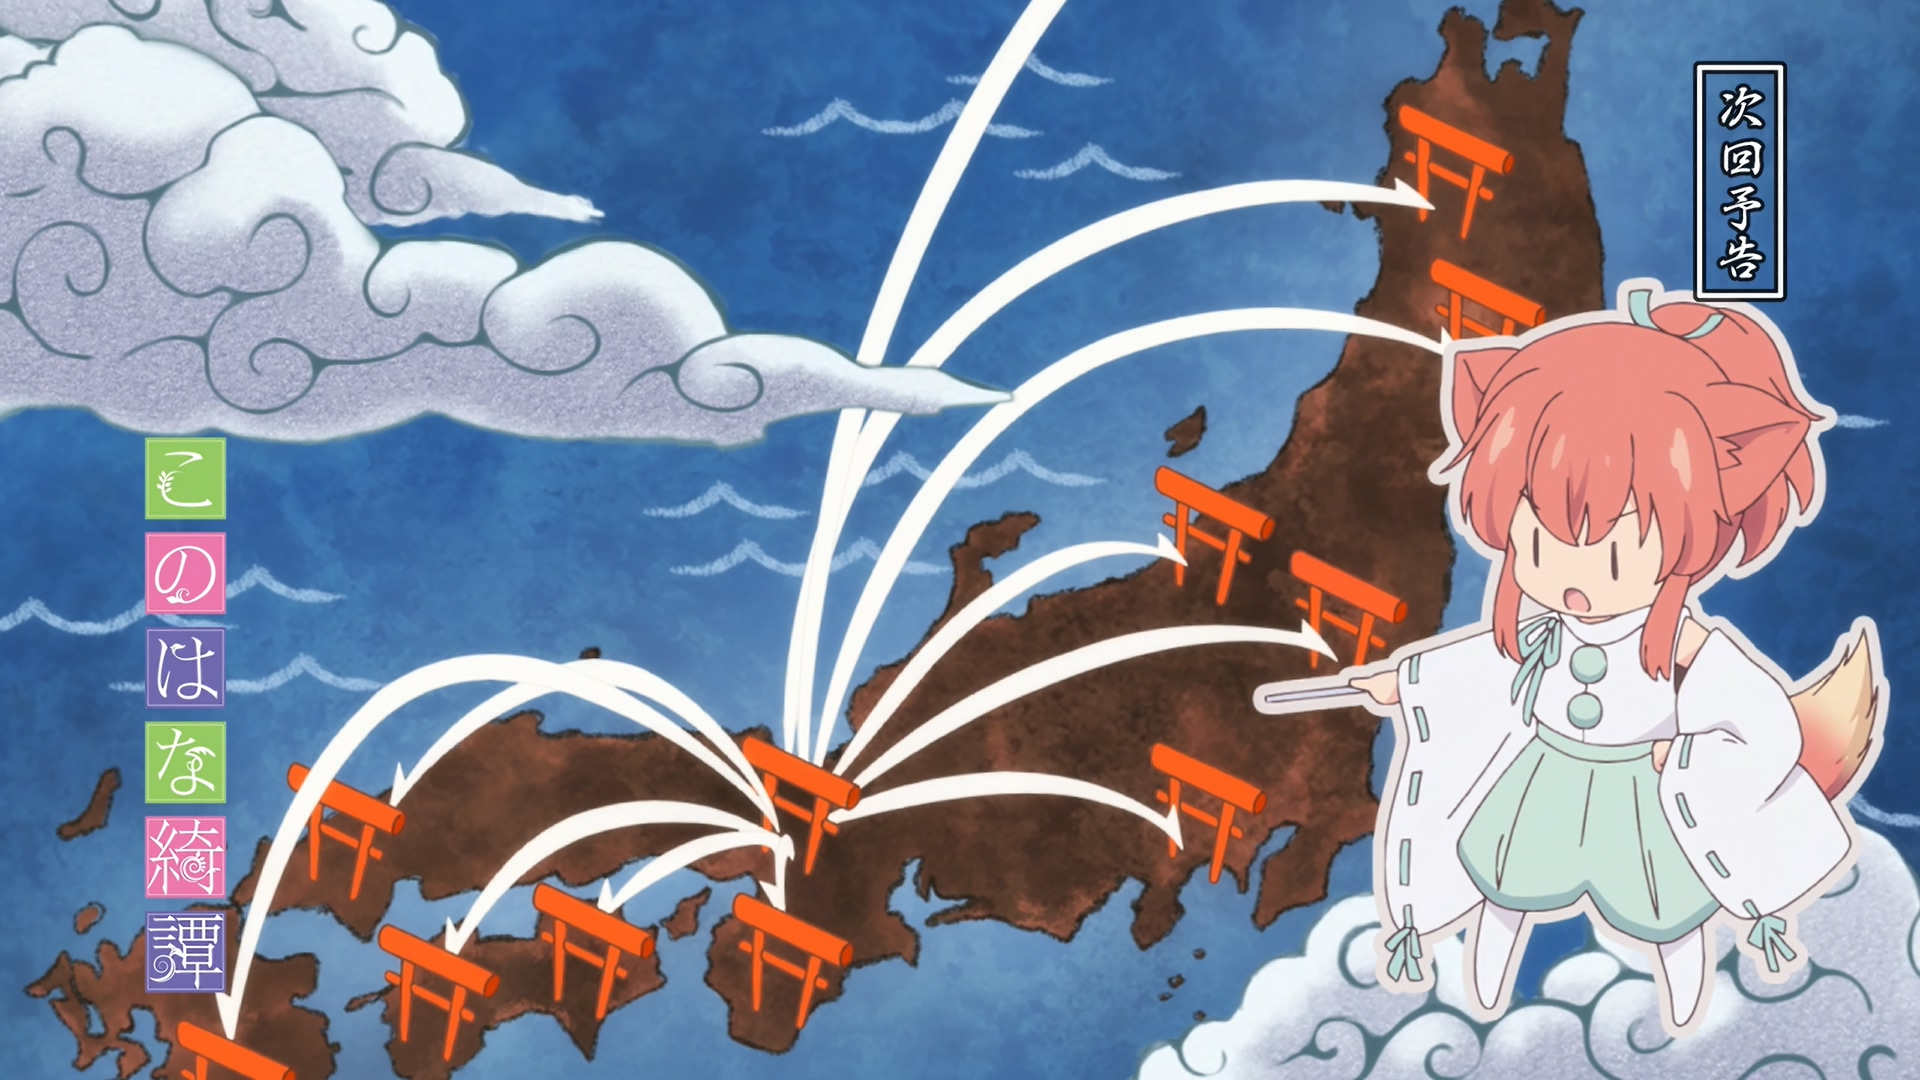椿: (1255, 280, 1886, 1036)
